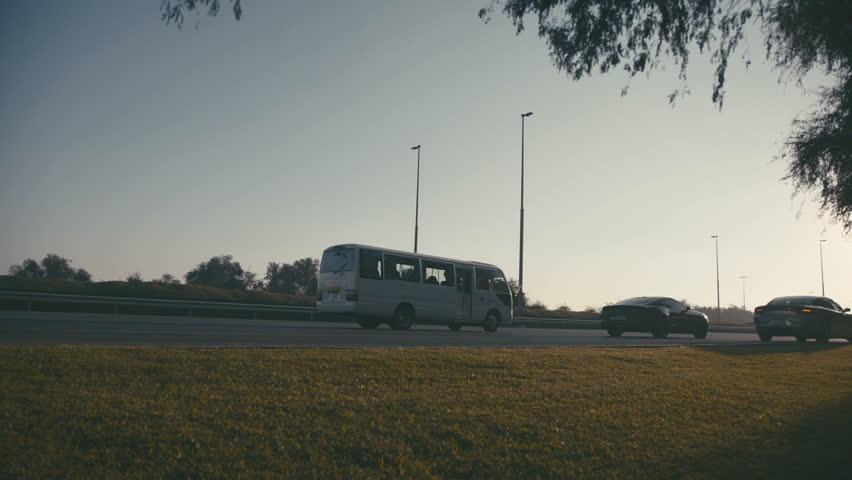bus: (314, 243, 513, 333)
car: (599, 295, 709, 339), (753, 294, 852, 342)
